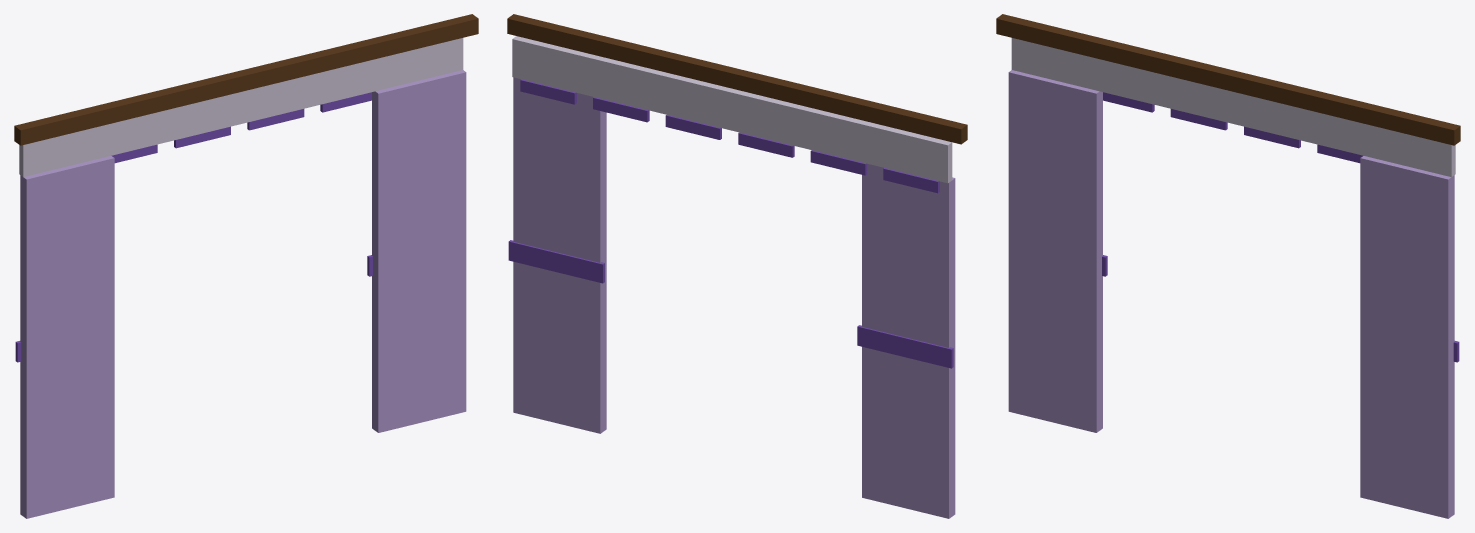
Rendered from ncb-curtains-lilac.glb.
The picture shows the model from 3 angles, left to right: view 1: azimuth 30°, elevation 25°; view 2: azimuth 150°, elevation 25°; view 3: azimuth 330°, elevation 25°; orthographic projection.
Parts seen in each view (by area): view 1: box-prop; view 2: box-prop; view 3: box-prop.
Boxes of the visible parts, x1,y1,x2,y2 form: box-prop: [14, 14, 478, 518]; box-prop: [507, 14, 967, 518]; box-prop: [996, 14, 1460, 518].
Size of the model in its own units: 2.5 by 2.05 by 0.11.
